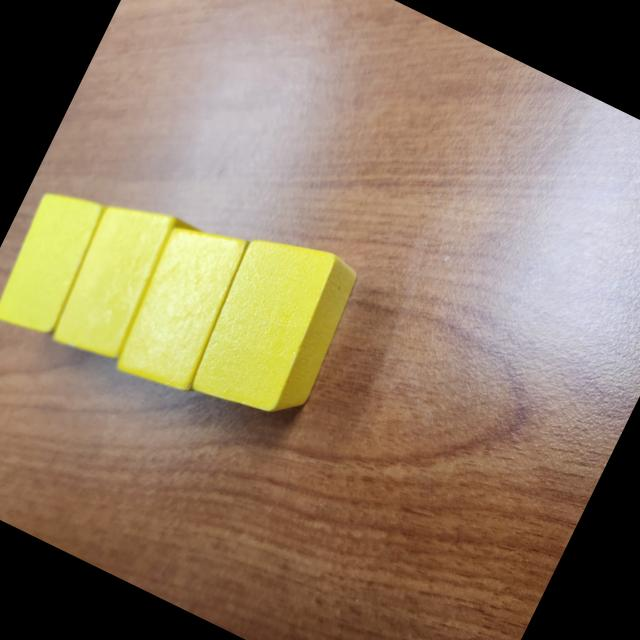yellow: (180, 219, 369, 436), (104, 210, 265, 408), (41, 186, 202, 380), (0, 181, 111, 344)
